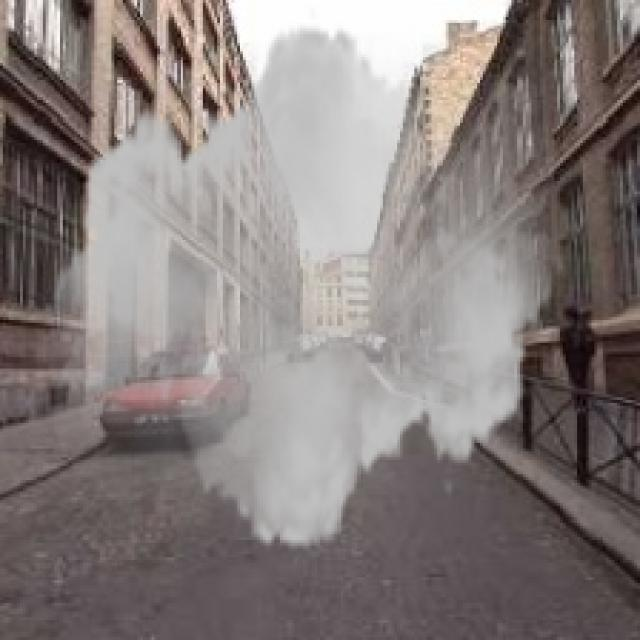smoke: (43, 3, 566, 571)
